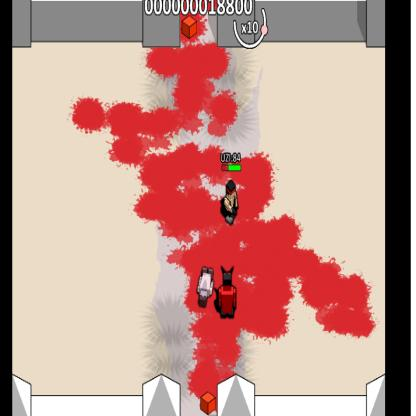agent: (224, 181, 238, 226)
boss: (218, 267, 236, 318)
